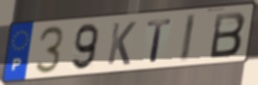3: (33, 24, 65, 76)
9: (69, 23, 101, 72)
B: (208, 10, 248, 60)
I: (178, 12, 198, 64)
K: (105, 21, 138, 67)
T: (146, 17, 174, 64)
